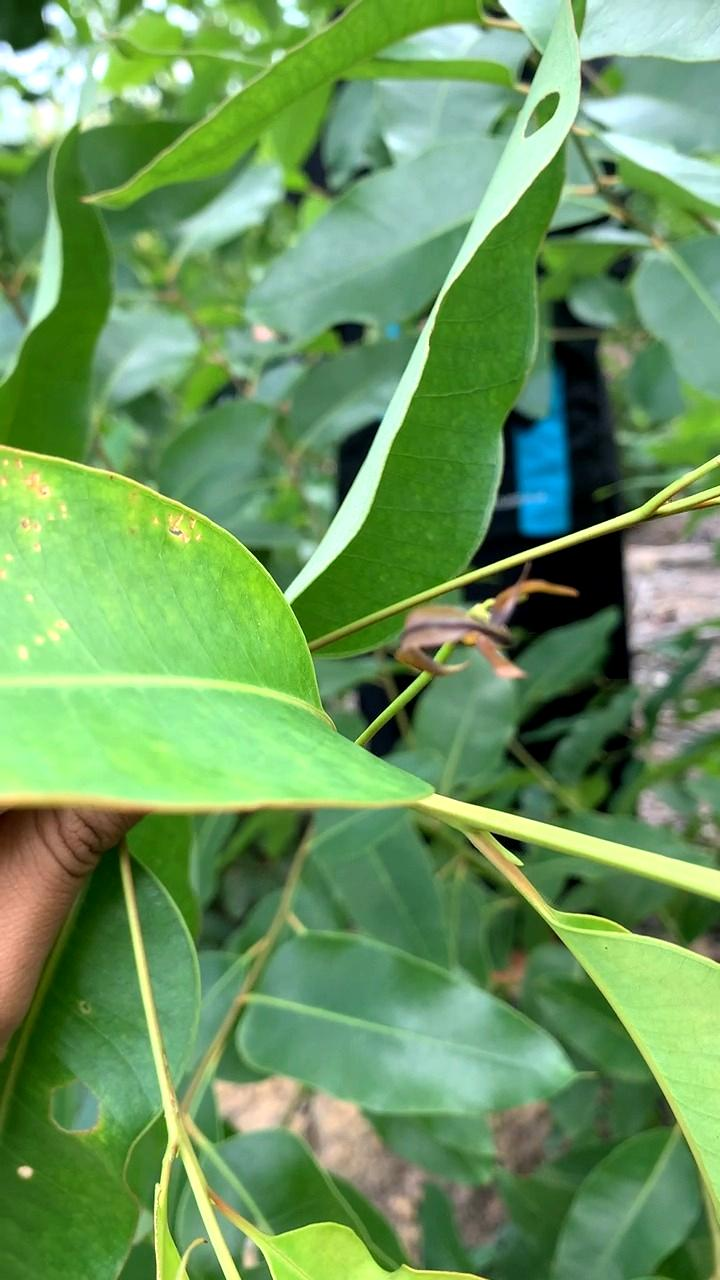Helopeltis-Withered Sprout: (391, 548, 583, 701)
